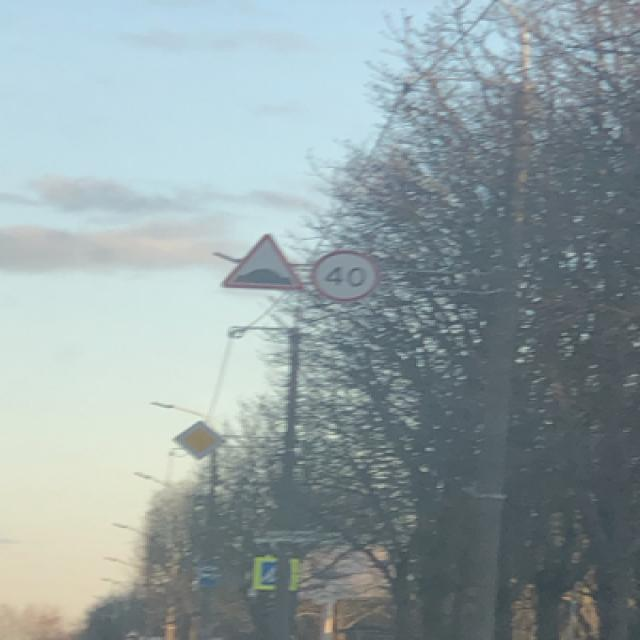crosswalk: (258, 557, 277, 582)
speedlimit: (307, 248, 373, 301)
